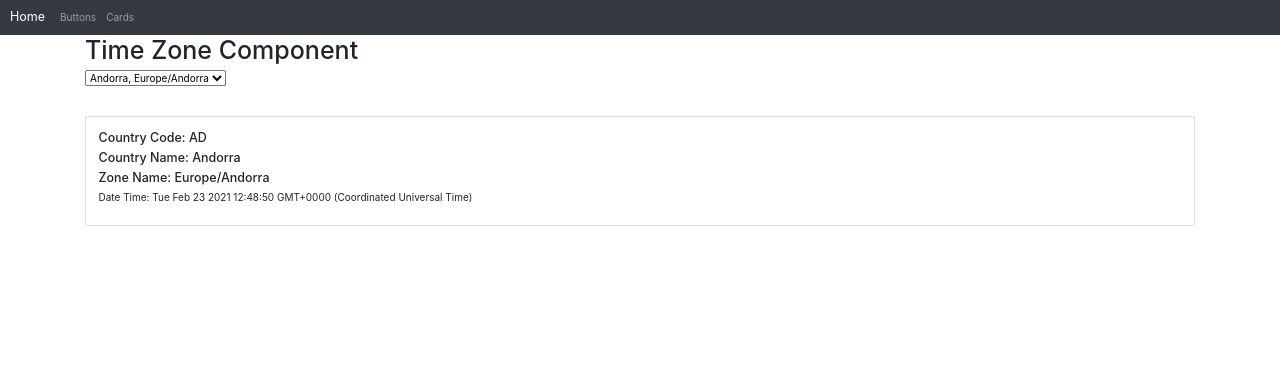
Test: Routing › route to Buttons
Step 1. Click the link "Buttons" → [78, 17], box [60,11,96,23]
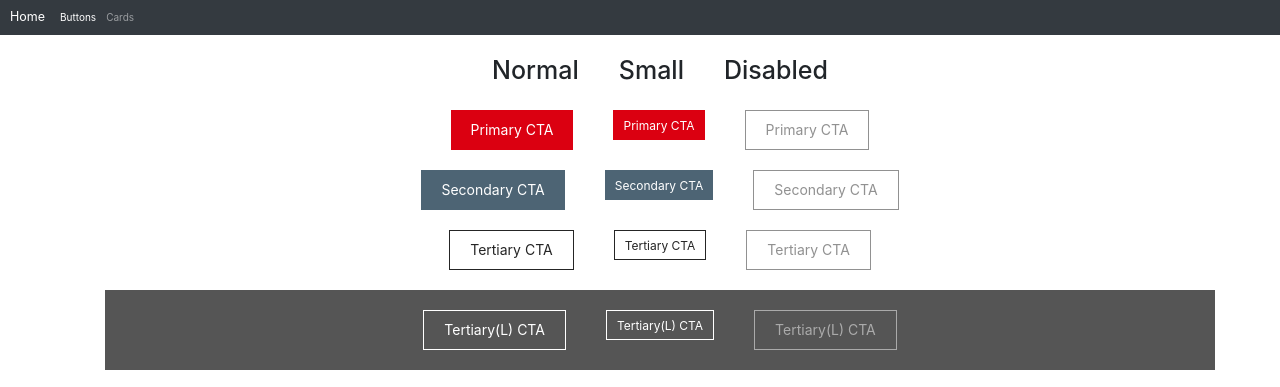
Check: the heading "Normal" is shown, box [492,55,579,85]
